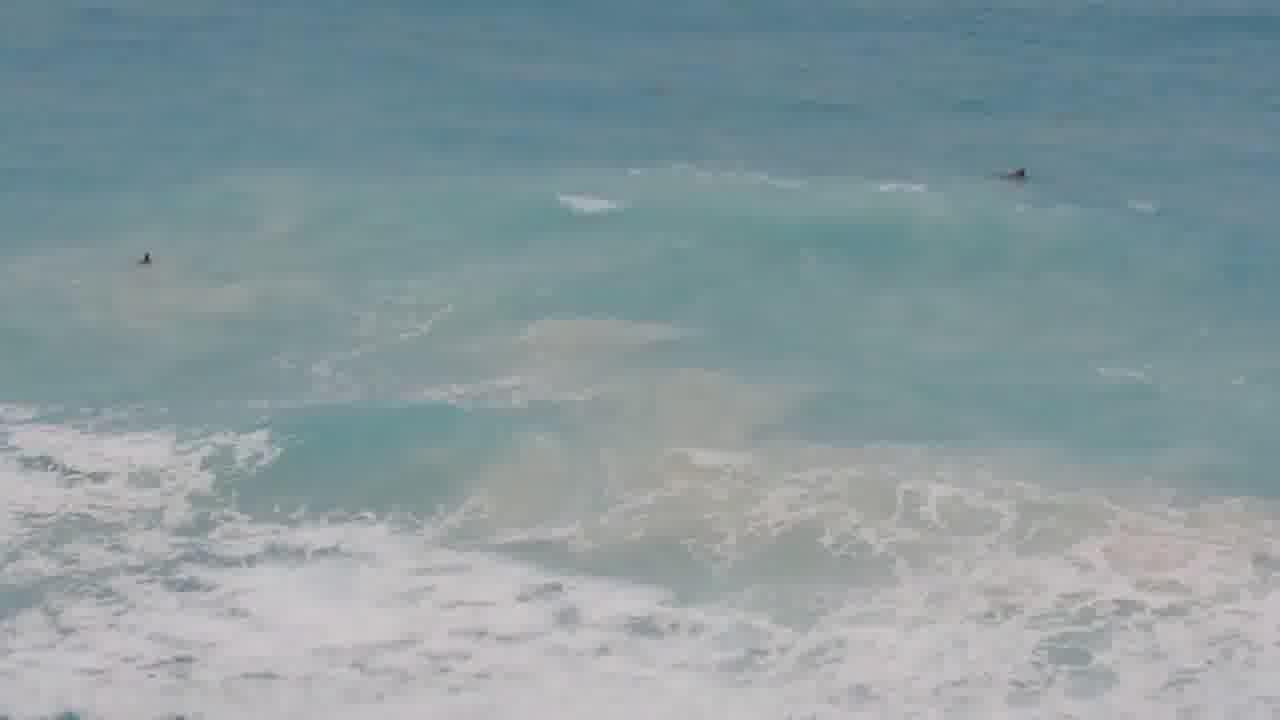human: (990, 154, 1041, 197), (128, 237, 169, 274)
